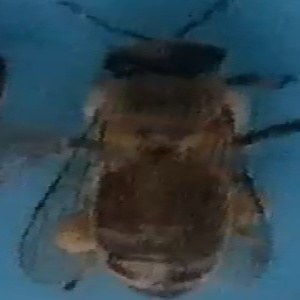bee: (47, 15, 290, 297)
